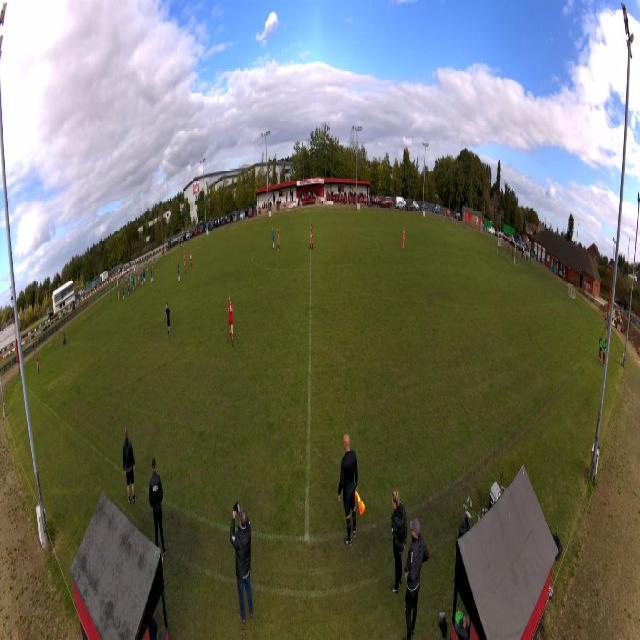player: (227, 296, 234, 347), (164, 301, 172, 340), (309, 223, 313, 251), (402, 226, 406, 251), (277, 227, 281, 252), (177, 259, 181, 283), (36, 353, 40, 375), (150, 265, 154, 284), (272, 226, 275, 251), (190, 249, 193, 269), (184, 257, 187, 275), (138, 271, 141, 289), (132, 274, 135, 292), (122, 283, 125, 301), (142, 268, 145, 285), (140, 271, 143, 288), (130, 275, 133, 292), (128, 278, 131, 295), (127, 280, 130, 297), (183, 248, 186, 263), (144, 268, 146, 284), (152, 261, 154, 275)
